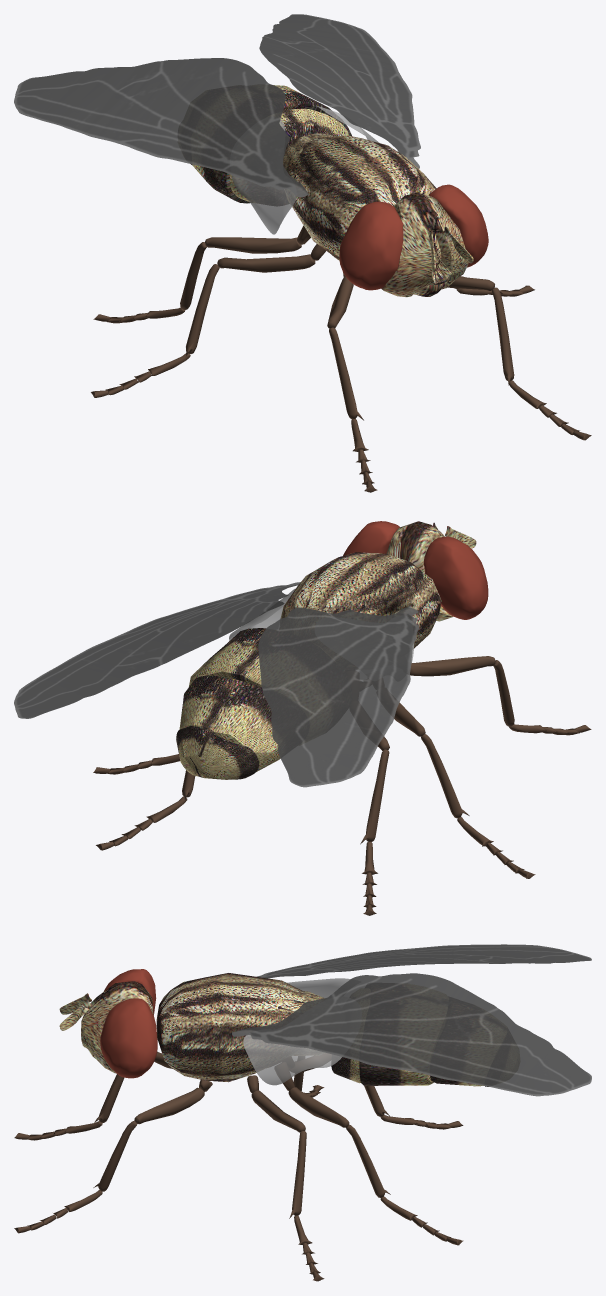
The model's file is fly.glb.
The picture shows the model from 3 angles, top to bottom: view 1: azimuth 30°, elevation 25°; view 2: azimuth 150°, elevation 25°; view 3: azimuth 270°, elevation 25°; orthographic projection. The views are drawn at different scales.
Parts seen in each view (by area): view 1: 3DSMeshMatrix (×15); view 2: 3DSMeshMatrix (×12); view 3: 3DSMeshMatrix (×16).
Boxes of the visible parts, x1,y1,x2,y2 form: 3DSMeshMatrix (×15): (14,14,514,420); 3DSMeshMatrix (×12): (14,521,514,844); 3DSMeshMatrix (×16): (59,944,591,1218).
Size of the model in its own units: 4017 by 2097 by 5056.
7 materials, 6 textured.
